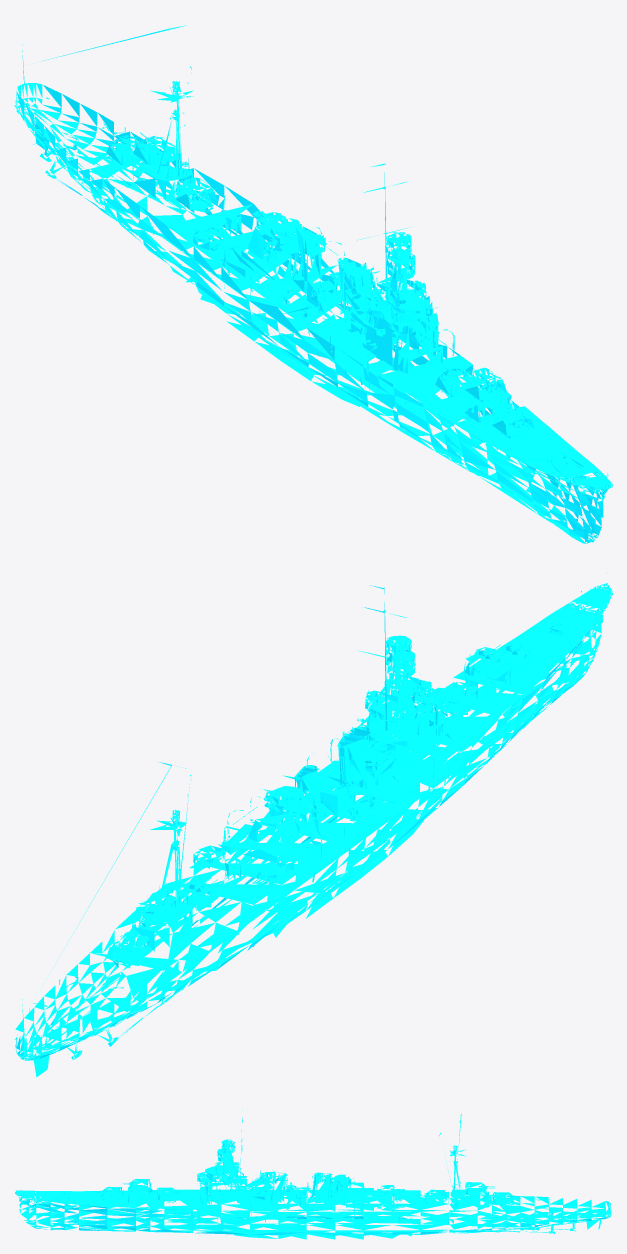
File: Tokachi.glb
3 views of the same model, one above another, from view 1: azimuth 30°, elevation 25°; view 2: azimuth 150°, elevation 25°; view 3: azimuth 270°, elevation 25° (orthographic). The views are drawn at different scales.
Size of the model in its own units: 1.43 by 2.82 by 12.39.
